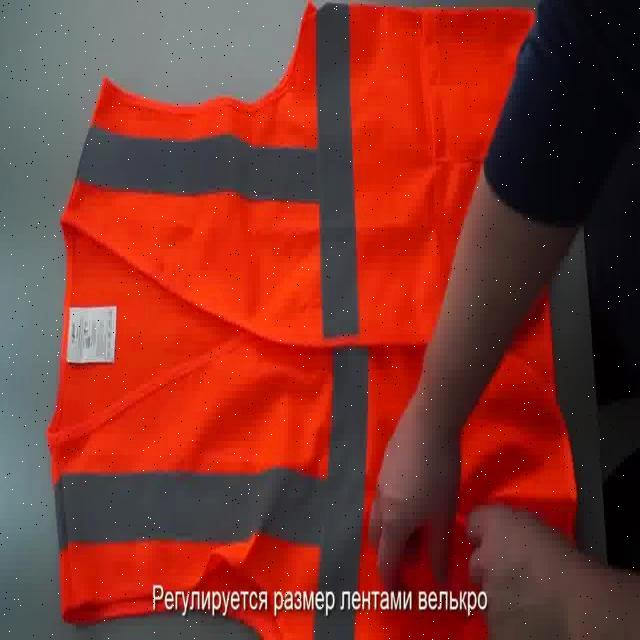Vest: (54, 7, 559, 632)
